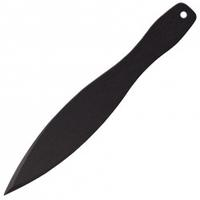knife: (2, 4, 194, 196)
